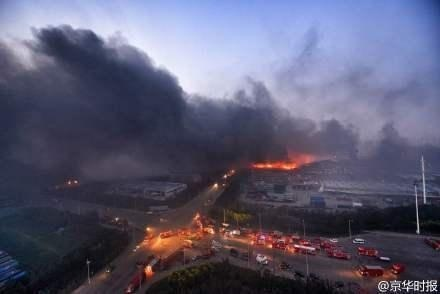fire: (252, 156, 305, 169)
